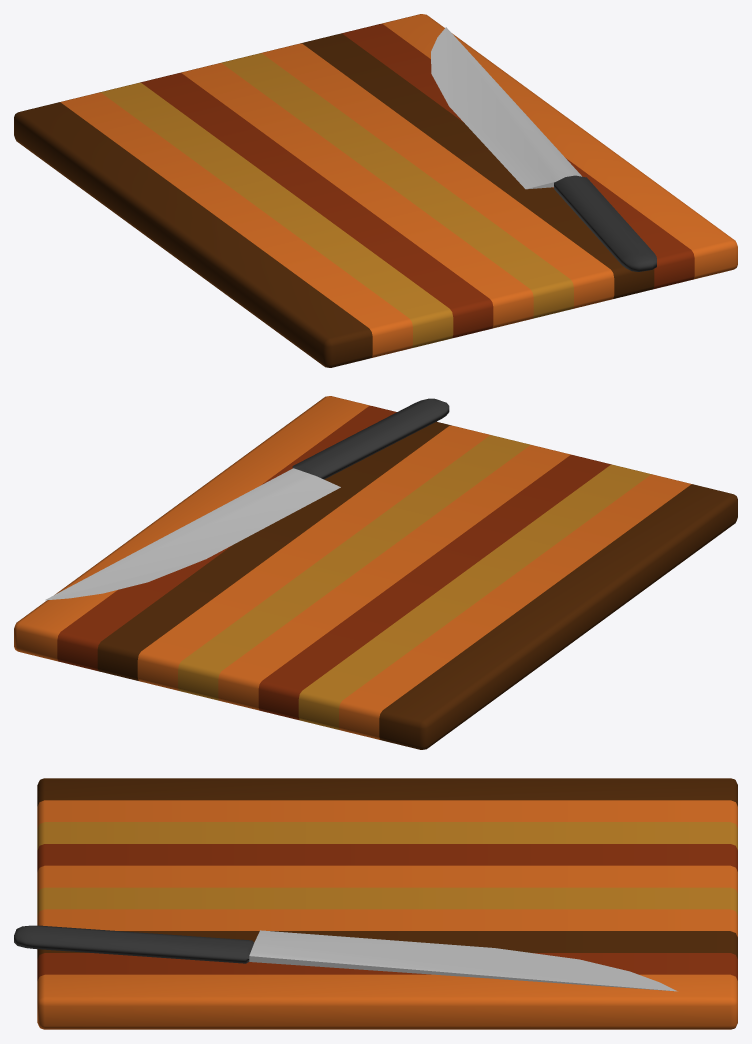
File: CuttingBoard_01.fbx
3 views of the same model, one above another, from view 1: azimuth 30°, elevation 25°; view 2: azimuth 150°, elevation 25°; view 3: azimuth 270°, elevation 25° (orthographic). The views are drawn at different scales.
Visible parts, largest first — view 1: CuttingBoard_01, CuttingBoard_Knife; view 2: CuttingBoard_01, CuttingBoard_Knife; view 3: CuttingBoard_01, CuttingBoard_Knife.
Part boxes in pixels (x1,y1,x2,y2): CuttingBoard_01: (14, 14, 737, 367); CuttingBoard_Knife: (431, 27, 656, 271); CuttingBoard_01: (14, 396, 737, 749); CuttingBoard_Knife: (45, 398, 449, 600); CuttingBoard_01: (37, 778, 737, 1029); CuttingBoard_Knife: (14, 925, 677, 991).
Bounding box in the file's own units: 22.91 × 2.29 × 31.26.
